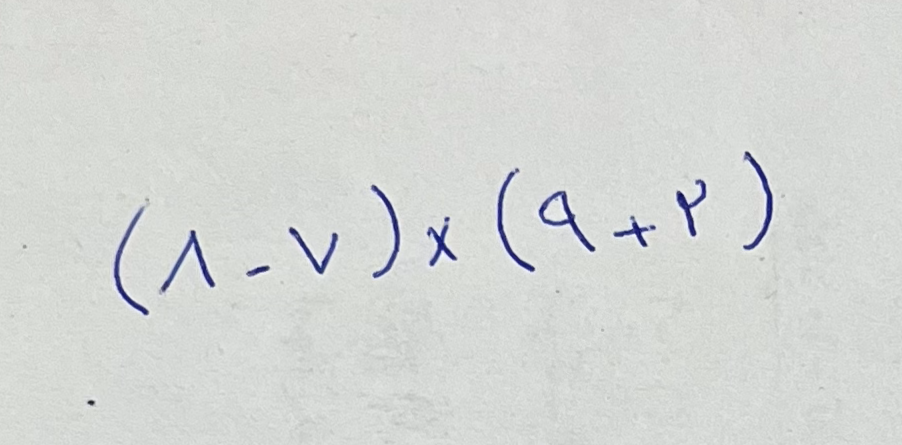character: (496, 160, 537, 274), (114, 197, 152, 318), (160, 229, 218, 293), (540, 189, 597, 254), (369, 184, 407, 281), (741, 151, 774, 251), (287, 225, 341, 276), (673, 180, 709, 239), (423, 216, 457, 270), (613, 215, 655, 248), (247, 263, 271, 280)
